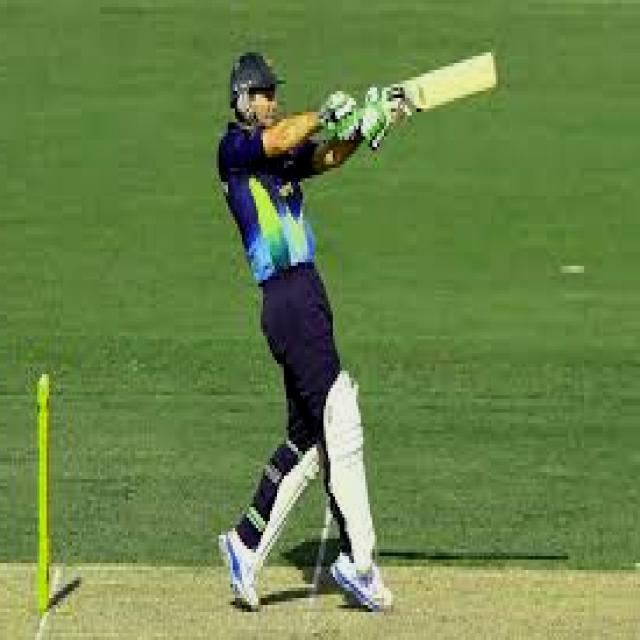toe: (487, 47, 500, 90)
